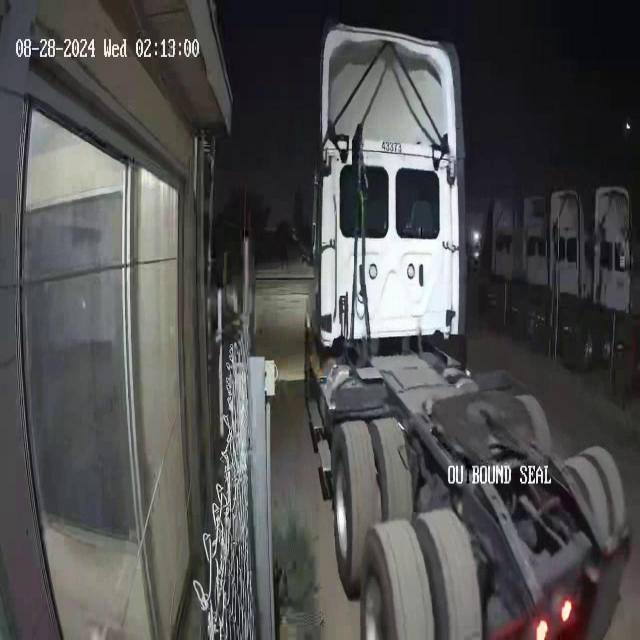BOBTAIL: (292, 20, 632, 638)
